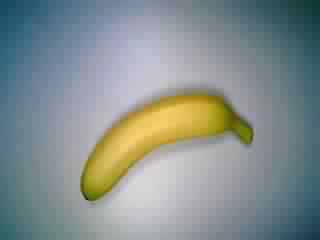banana: (78, 92, 260, 202)
